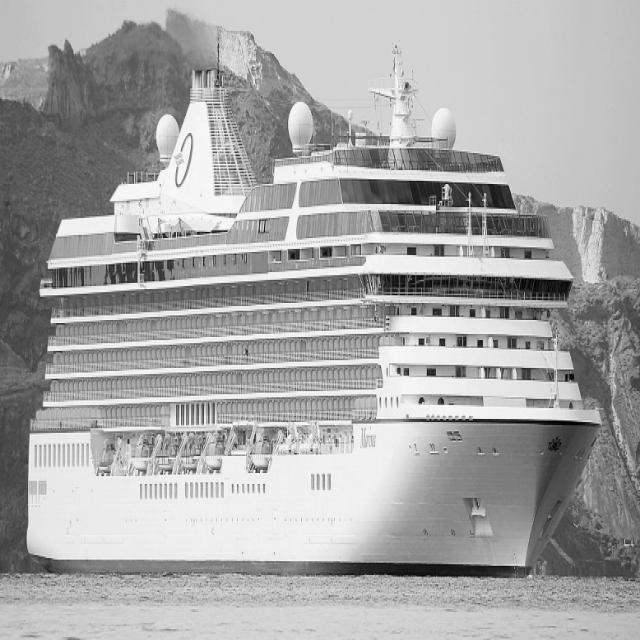cruises: (17, 47, 609, 584)
